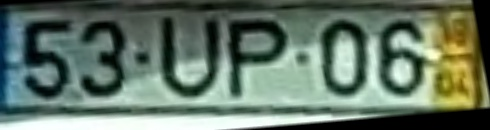0: (318, 16, 374, 102)
3: (76, 15, 133, 103)
5: (21, 16, 77, 105)
6: (376, 16, 429, 101)
P: (226, 17, 294, 102)
U: (158, 14, 226, 103)
